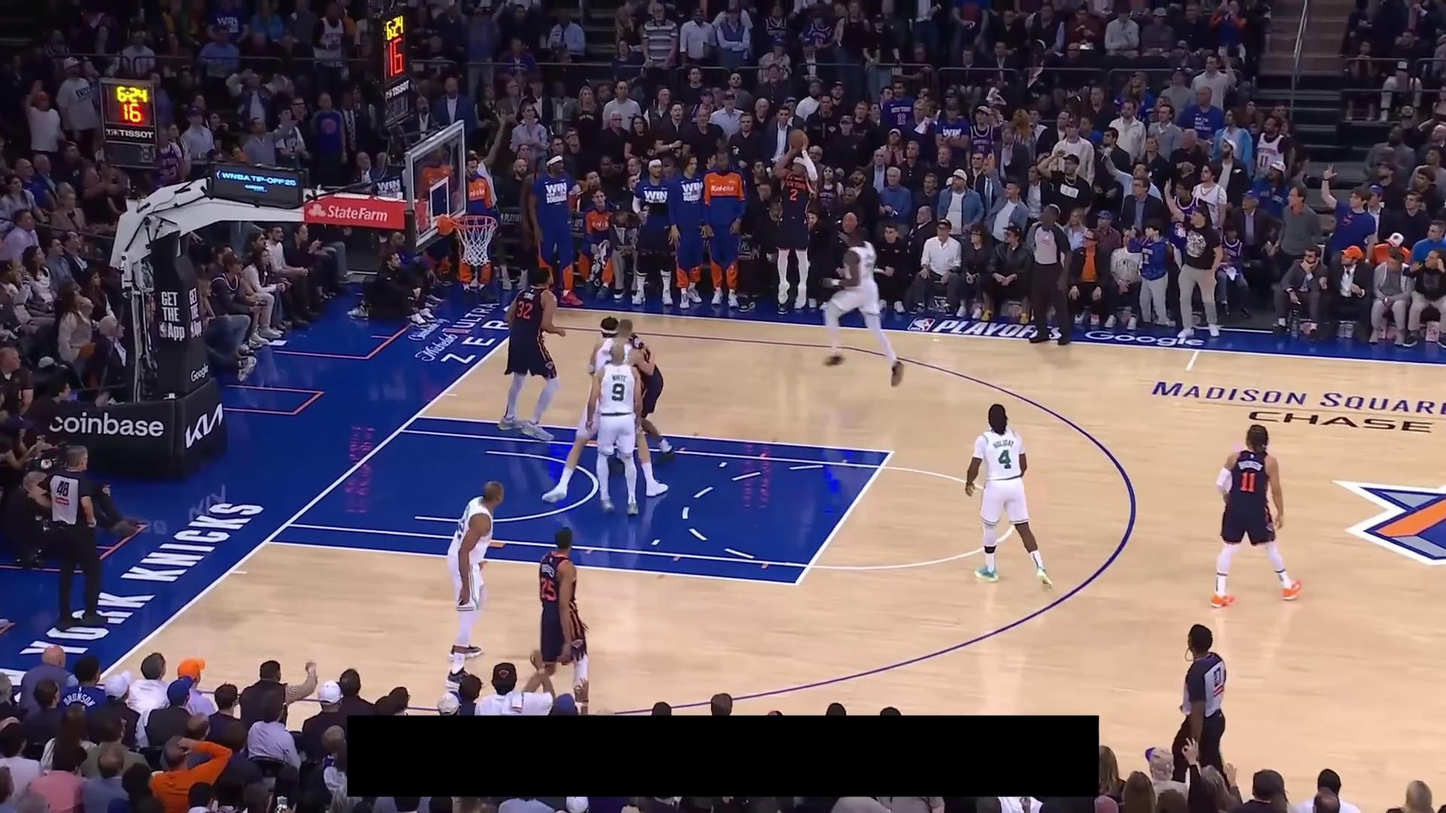ball: (787, 128, 808, 151)
number: (540, 576, 557, 601), (1240, 471, 1257, 493), (517, 300, 533, 320), (998, 449, 1013, 470), (611, 382, 625, 402), (789, 187, 798, 201)
player: (541, 319, 656, 504), (1210, 422, 1304, 609), (964, 402, 1054, 592), (818, 217, 907, 387), (520, 525, 593, 714), (497, 265, 567, 441), (598, 317, 677, 468), (444, 479, 503, 668), (585, 342, 642, 516)
player-jump-shot: (773, 129, 818, 310)
referee: (35, 445, 110, 630), (1170, 624, 1232, 781), (1019, 205, 1075, 347)
rim: (452, 214, 499, 230)
